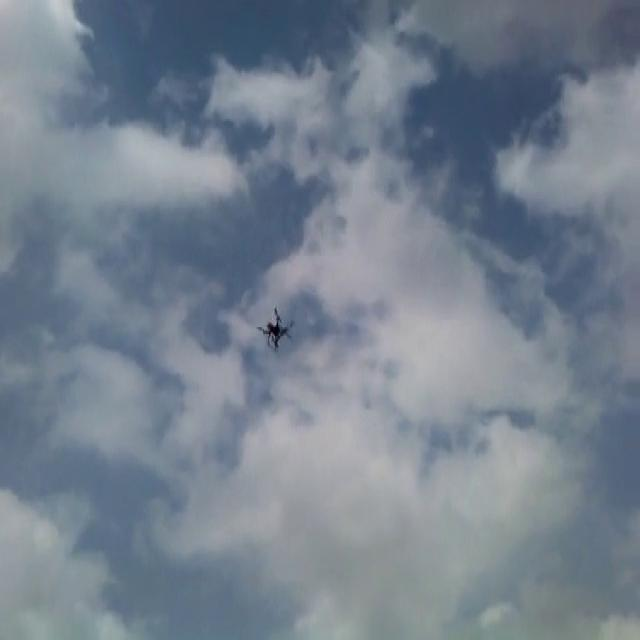drone: (257, 300, 292, 354)
